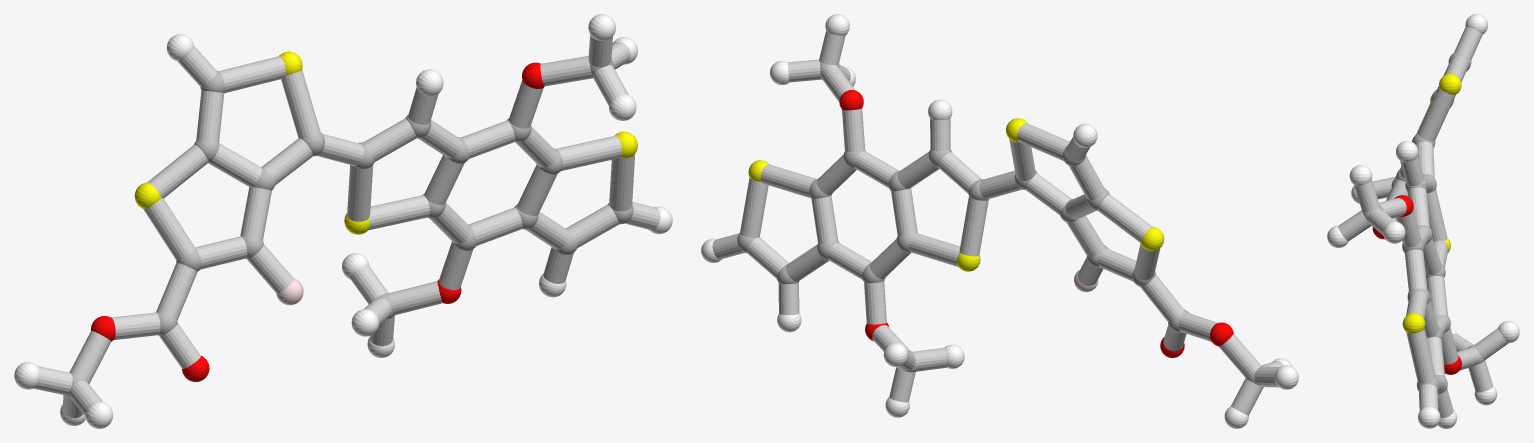
File: color.glb
3 renders of one model, left to right at view 1: azimuth 30°, elevation 25°; view 2: azimuth 150°, elevation 25°; view 3: azimuth 270°, elevation 25°, orthographic. The views are drawn at different scales.
Visible parts, largest first — view 1: grp15205, grp8689, grp1, grp13395, grp7241; view 2: grp15205, grp8689, grp1, grp7241, grp13395; view 3: grp15205, grp8689, grp1, grp7241, grp13395.
Part boxes in pixels (bbox=[...]): grp15205: bbox=[33, 35, 660, 418]; grp8689: bbox=[14, 14, 672, 428]; grp1: bbox=[66, 59, 633, 398]; grp13395: bbox=[91, 62, 544, 381]; grp7241: bbox=[134, 51, 637, 234]; grp15205: bbox=[712, 31, 1283, 415]; grp8689: bbox=[701, 14, 1298, 428]; grp1: bbox=[737, 62, 1264, 387]; grp7241: bbox=[748, 118, 1164, 271]; grp13395: bbox=[839, 90, 1233, 357]; grp15205: bbox=[1338, 26, 1508, 418]; grp8689: bbox=[1327, 14, 1519, 428]; grp1: bbox=[1362, 52, 1484, 394]; grp7241: bbox=[1402, 73, 1461, 333]; grp13395: bbox=[1372, 195, 1461, 374].
Size of the model in its own units: 16.59 by 8.99 by 5.11.
